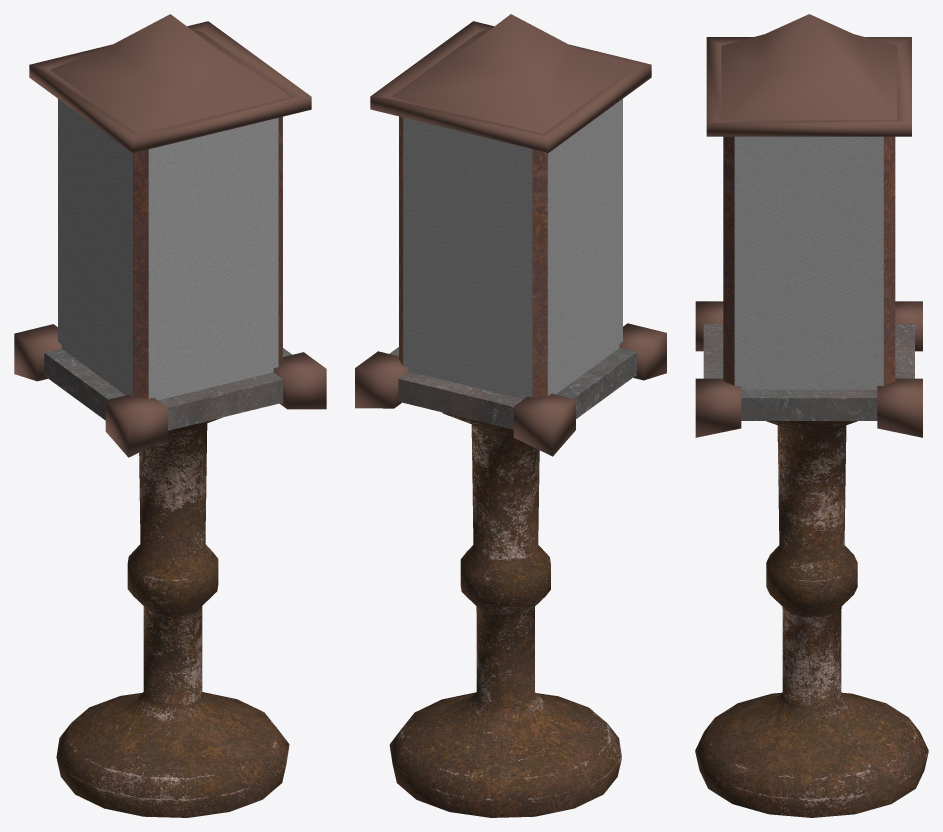
The model's file is Light_4.FBX.
3 renders of one model, left to right at view 1: azimuth 30°, elevation 25°; view 2: azimuth 150°, elevation 25°; view 3: azimuth 270°, elevation 25°, orthographic.
Parts seen in each view (by area): view 1: Light_4; view 2: Light_4; view 3: Light_4.
Boxes of the visible parts, <box> form: Light_4: <box>14,14,326,817</box>; Light_4: <box>355,14,666,817</box>; Light_4: <box>695,14,928,817</box>.
Size of the model in its own units: 10.88 by 38.51 by 10.82.
